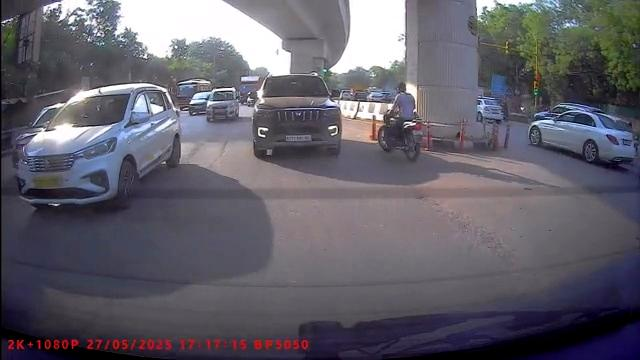motorcycle_without_helmet: (375, 79, 427, 165)
